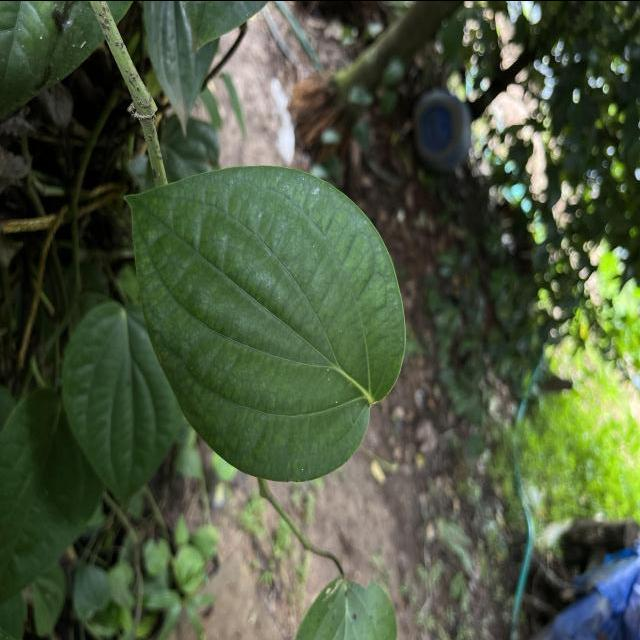Piper nigrum: (120, 162, 408, 483)
